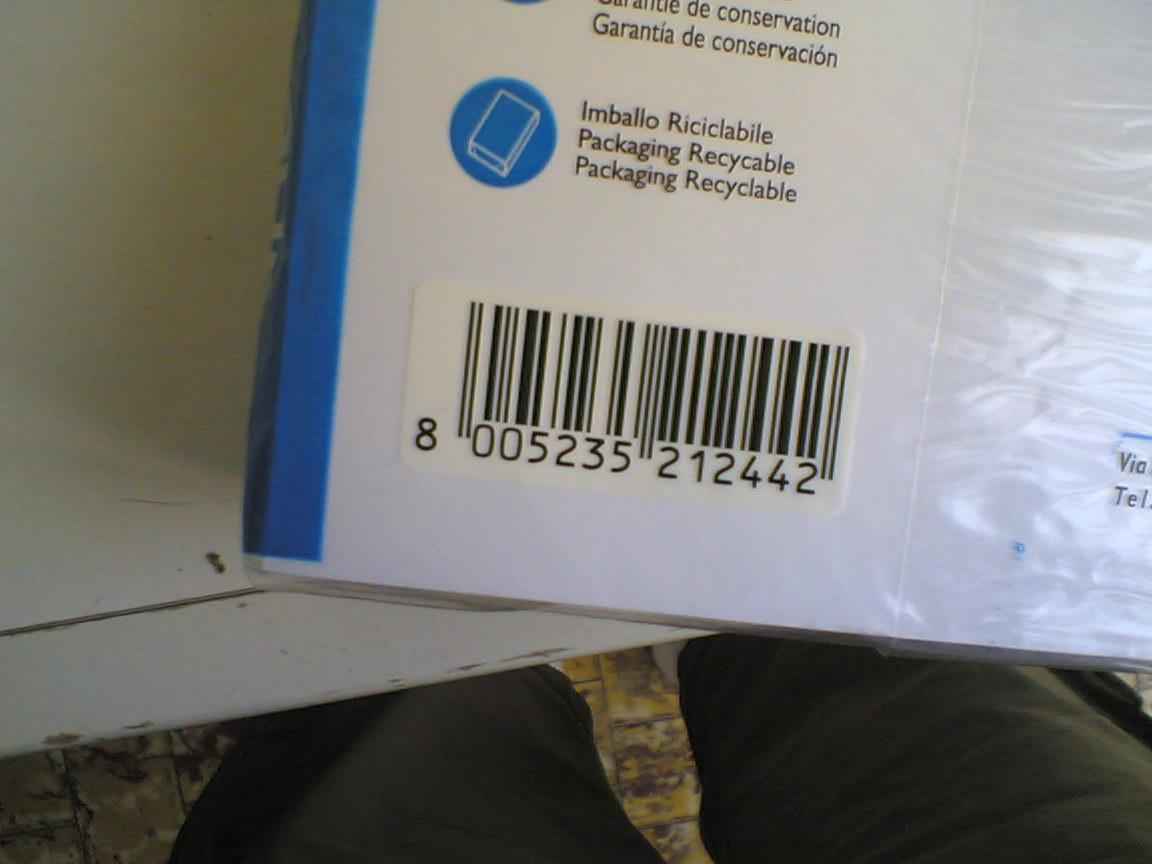Barcode: (399, 276, 870, 525)
